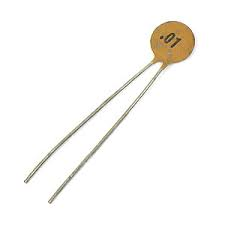ceramic capacitor: (126, 11, 211, 98)
